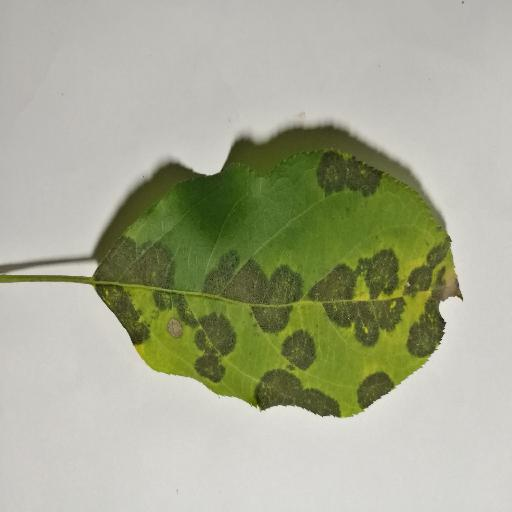Brown_Spot: (93, 76, 458, 430)
